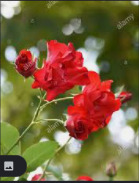RedRose: (63, 69, 122, 140), (32, 32, 88, 102), (13, 48, 35, 74)
